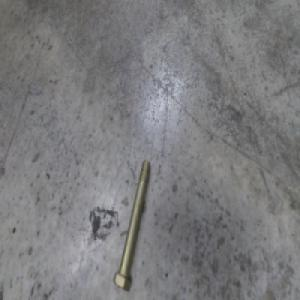Bolt: (109, 156, 147, 295)
